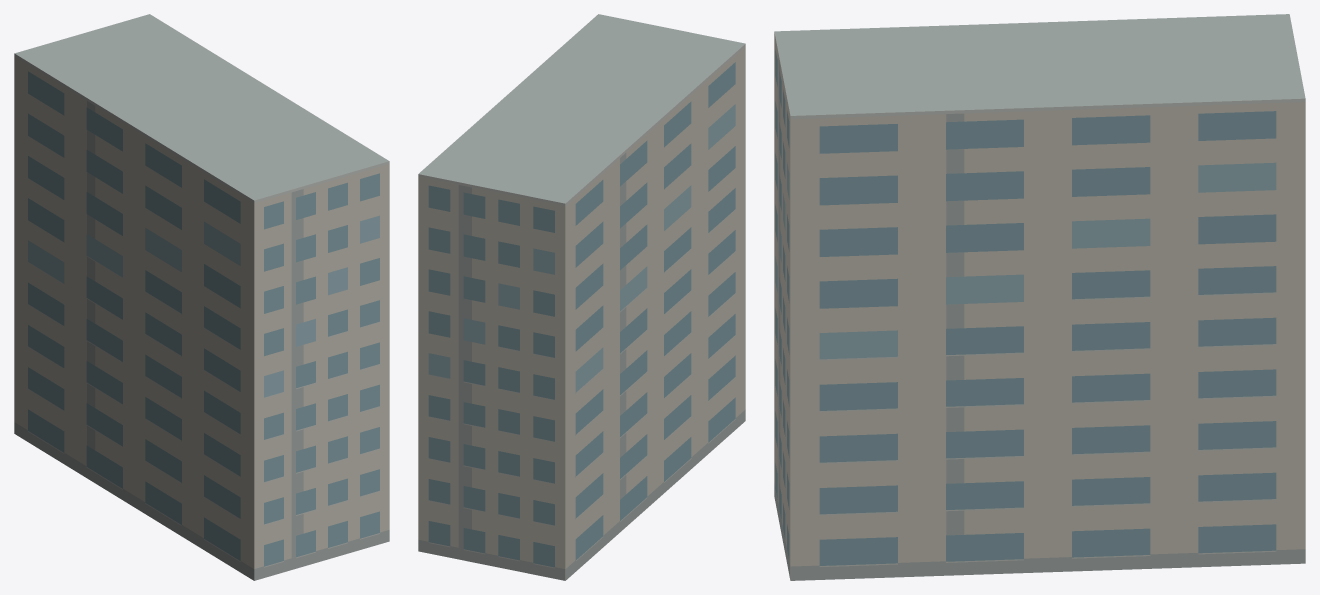
File: residential-c15b19b5-ec36-4378-b2aa-6fd11b6f7771.glb
3 renders of one model, left to right at view 1: azimuth 30°, elevation 25°; view 2: azimuth 150°, elevation 25°; view 3: azimuth 270°, elevation 25°, orthographic. The views are drawn at different scales.
Visible parts, largest first — view 1: residential-c15b19b5-ec36-4378-b2aa-6fd11b6f7771.tmp; view 2: residential-c15b19b5-ec36-4378-b2aa-6fd11b6f7771.tmp; view 3: residential-c15b19b5-ec36-4378-b2aa-6fd11b6f7771.tmp.
Part boxes in pixels (bbox=[...]): residential-c15b19b5-ec36-4378-b2aa-6fd11b6f7771.tmp: bbox=[14, 14, 389, 580]; residential-c15b19b5-ec36-4378-b2aa-6fd11b6f7771.tmp: bbox=[418, 14, 745, 580]; residential-c15b19b5-ec36-4378-b2aa-6fd11b6f7771.tmp: bbox=[774, 14, 1305, 580].
Size of the model in its own units: 16.01 by 34 by 35.22.
